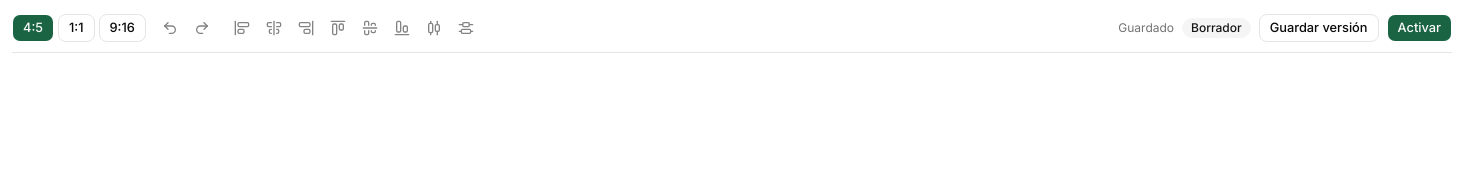
Test case: BarraSuperior › el estado de guardado sigue la prioridad
Click the button "1:1": (76,28) [58,14,94,42]
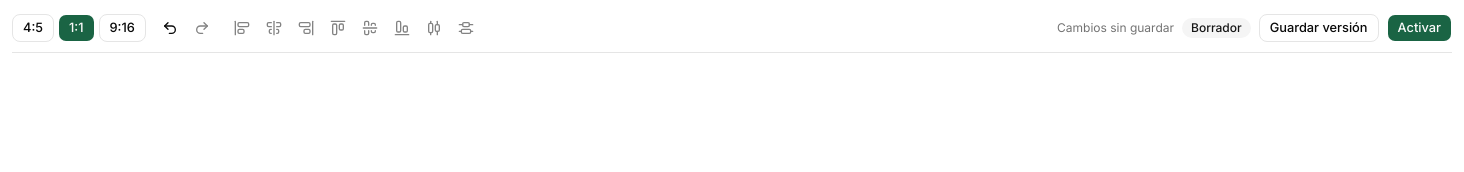
Expected: the text with test id "estado-guardado" reads "Cambios sin guardar", [1057,20,1174,35]
